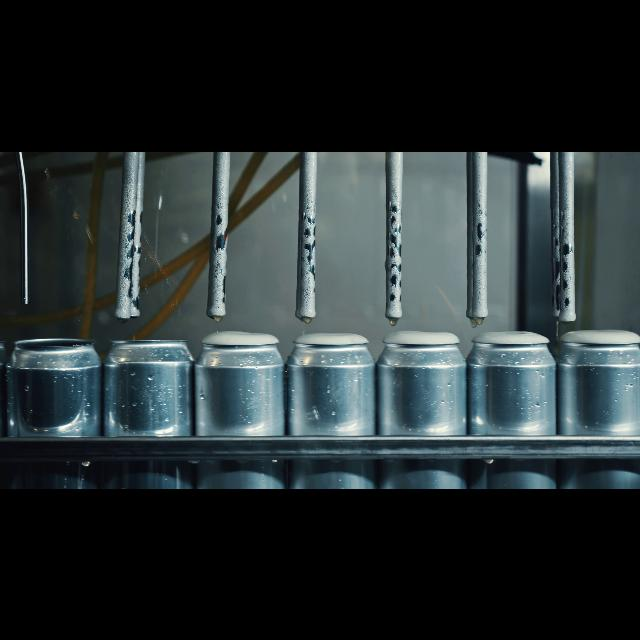empty: (12, 328, 100, 488), (108, 332, 192, 488)
full: (196, 322, 290, 488), (466, 318, 554, 488), (376, 320, 464, 488), (560, 317, 640, 488), (296, 322, 372, 488)
